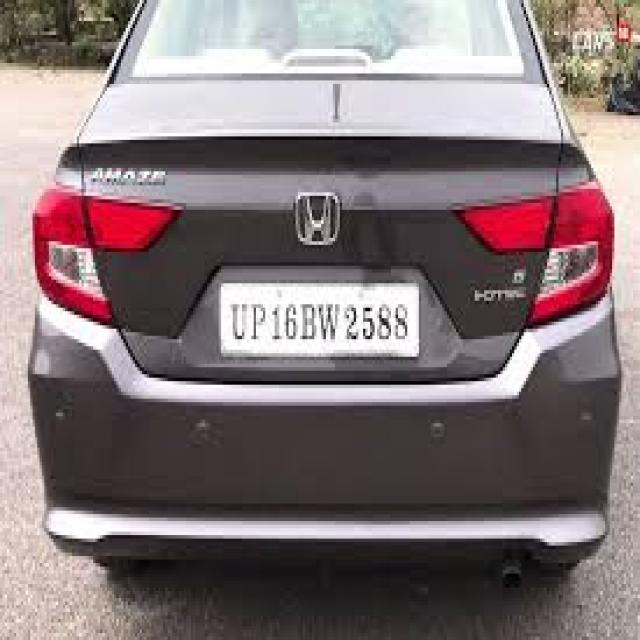Number-Plate: (221, 285, 418, 355)
